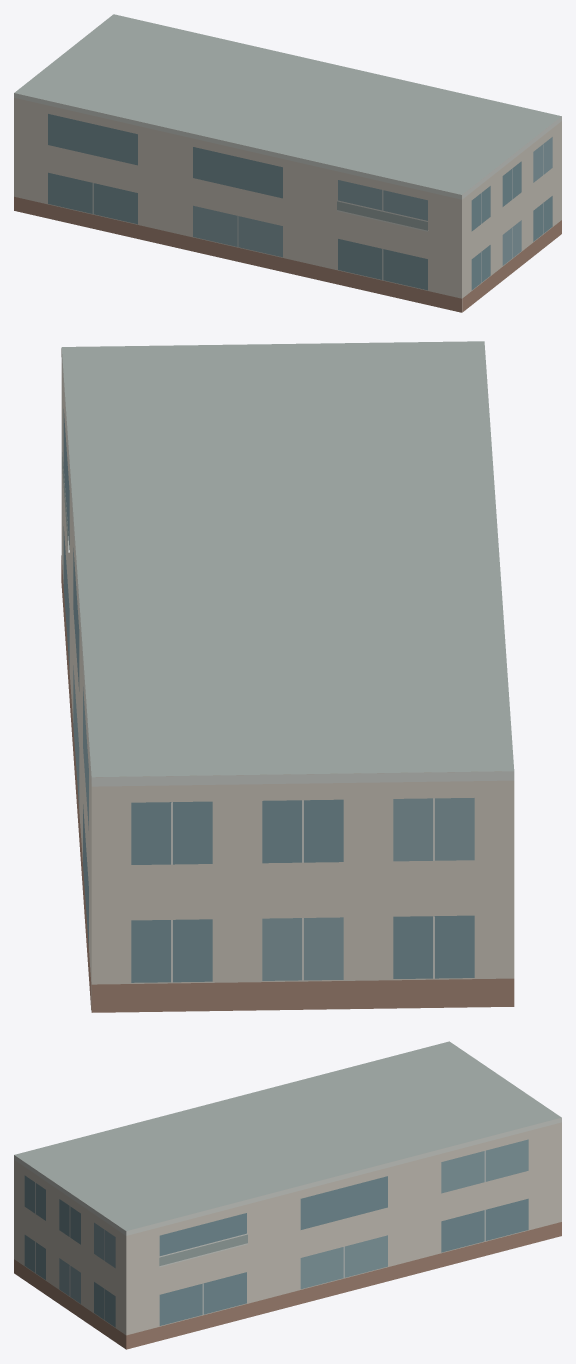
File: survey-upis-32941416.glb
3 renders of one model, top to bottom at view 1: azimuth 30°, elevation 25°; view 2: azimuth 150°, elevation 25°; view 3: azimuth 270°, elevation 25°, orthographic. The views are drawn at different scales.
Visible parts, largest first — view 1: survey-upis-32941416.tmp; view 2: survey-upis-32941416.tmp; view 3: survey-upis-32941416.tmp.
Part boxes in pixels (left/top/right/bottom): survey-upis-32941416.tmp: left=14, top=14, right=561, bottom=312; survey-upis-32941416.tmp: left=61, top=341, right=514, bottom=1012; survey-upis-32941416.tmp: left=14, top=1041, right=561, bottom=1349.
Bounding box in the file's own units: 20.99 × 6.1 × 25.59.
